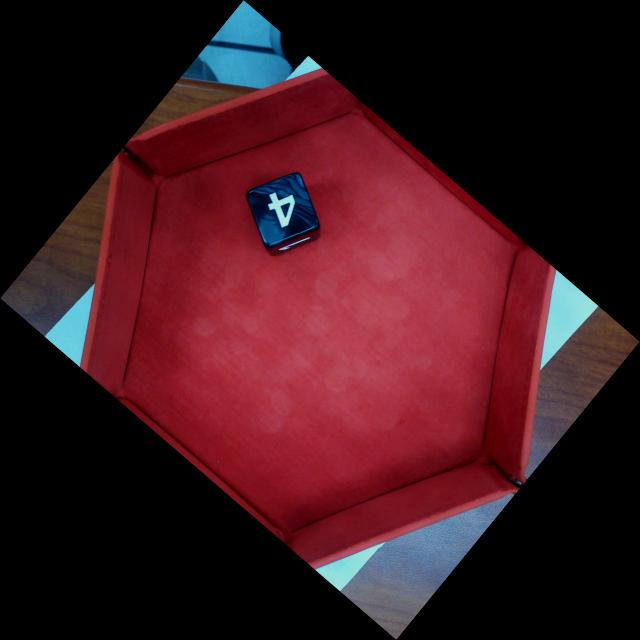dice: (245, 171, 321, 250)
